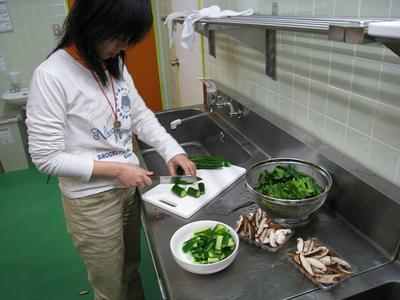person: (26, 1, 199, 300)
